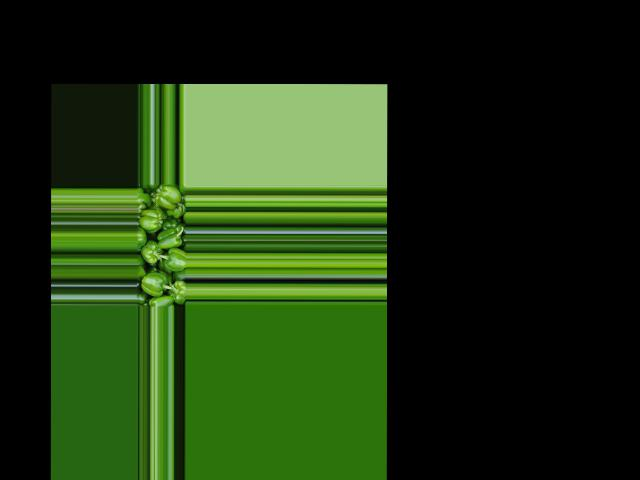bell_pepper: (136, 184, 184, 305)
